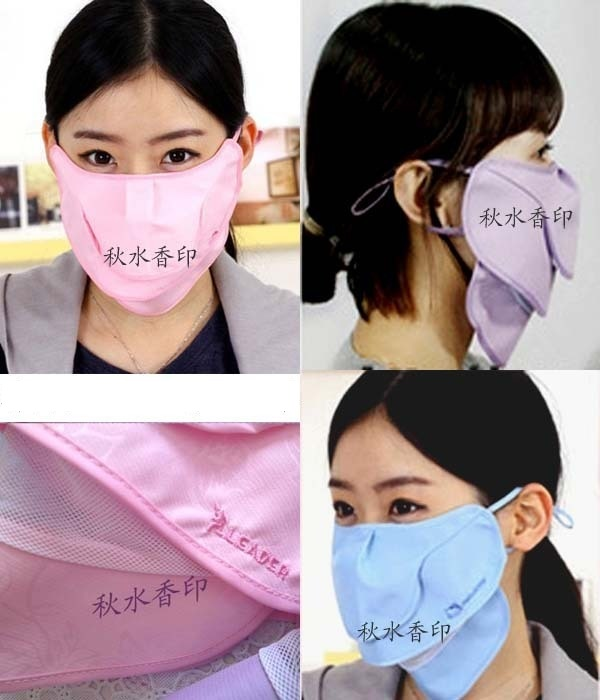face_mask: (53, 67, 234, 305), (326, 419, 494, 664), (445, 79, 574, 307)
